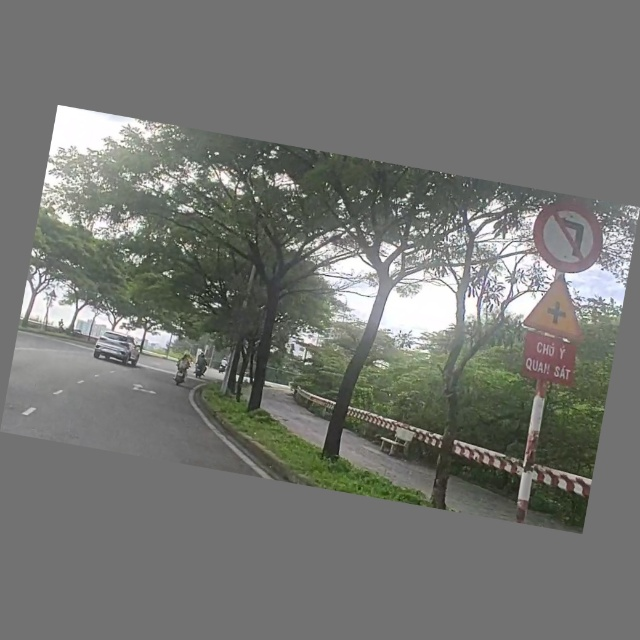P.123a: (527, 193, 621, 280)
W.205a: (521, 268, 601, 342)
